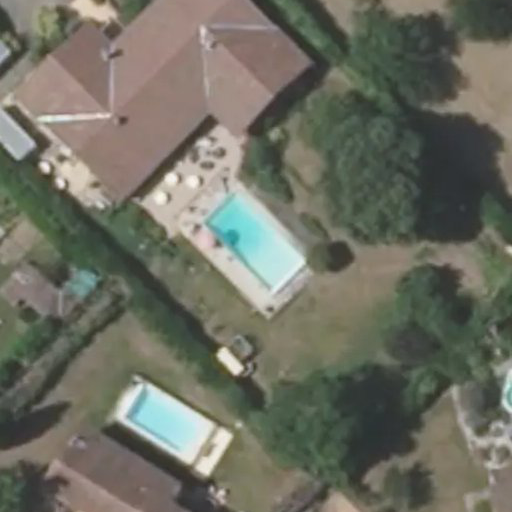pool: (201, 226, 310, 257)
